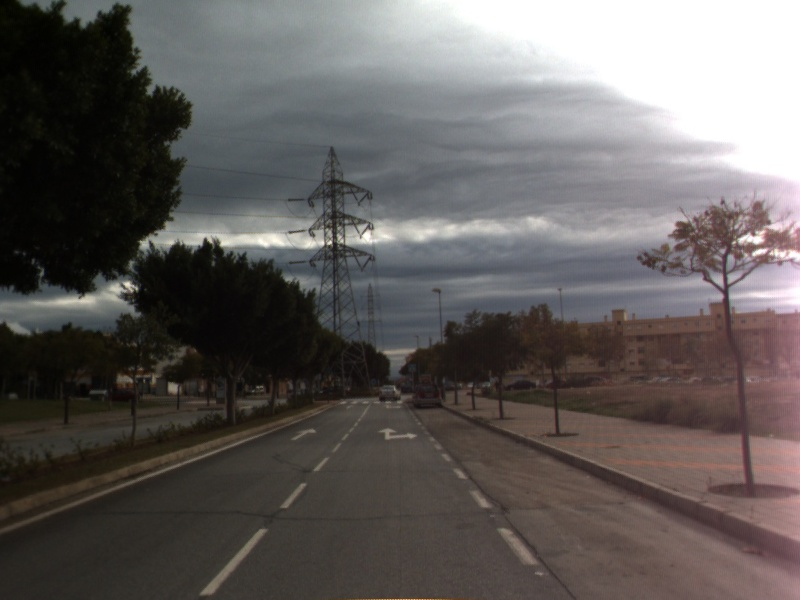STRAIGHT: (288, 426, 318, 442)
STRAIGHT_RIGHT: (375, 425, 420, 442)
